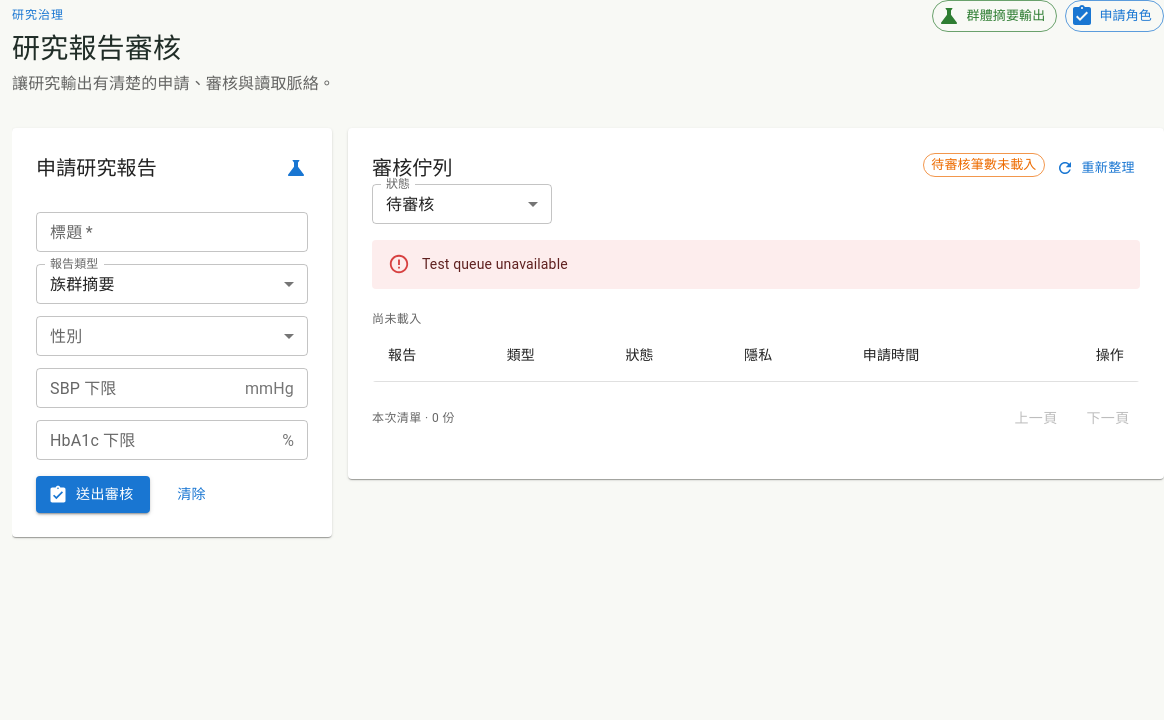
it: researcher cannot see review actions and failure does not look like an empty queue
Expected: the message "Test queue unavailable" is shown, [372,240,1140,288]
Click the button "重新整理" at (1096, 168), box [1052,153,1140,184]
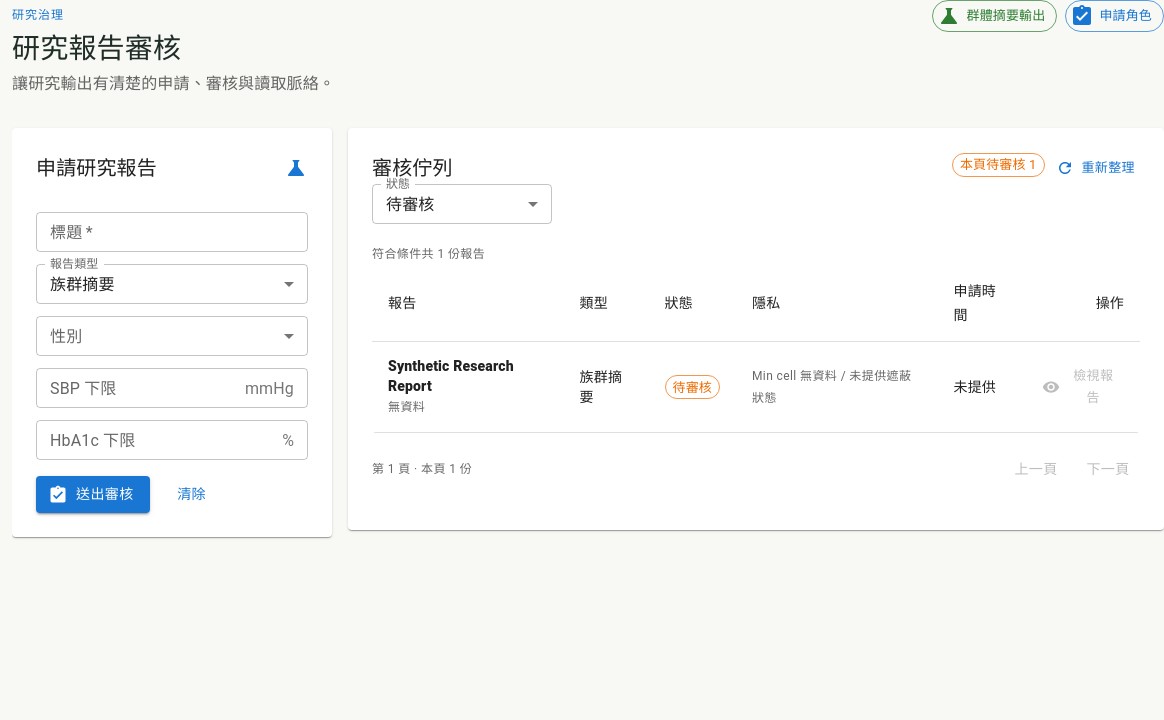
Expected: the text "Synthetic Research Report" is shown, [388,358,514,394]
